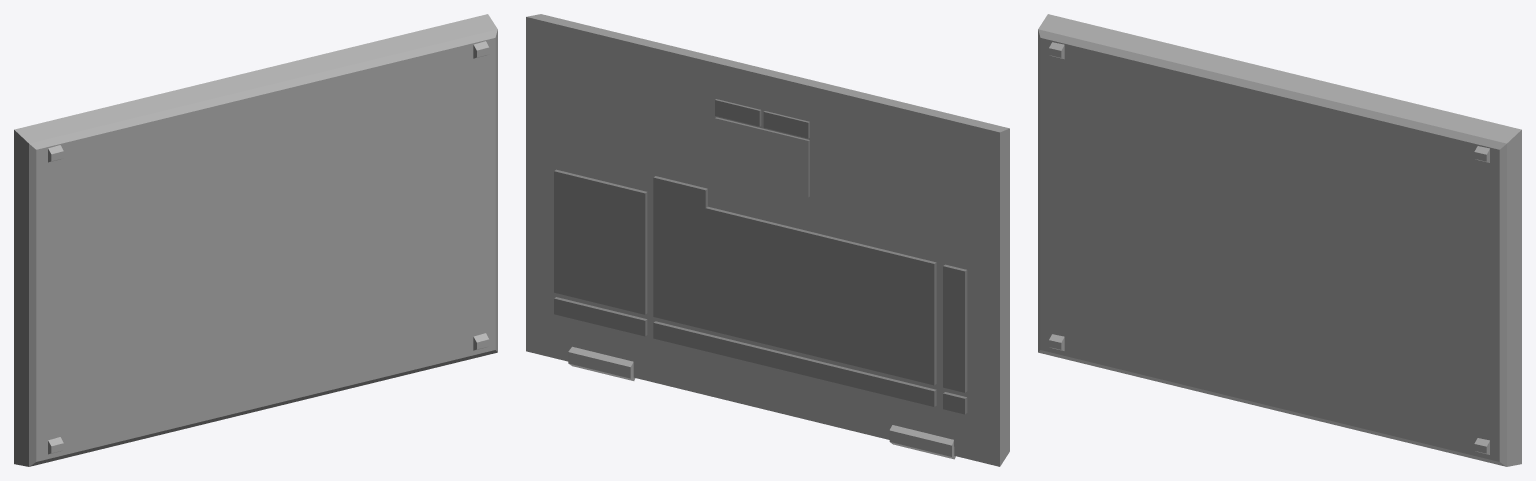
File: Laptop_Base.glb
3 views of the same model, side by side, from view 1: azimuth 30°, elevation 25°; view 2: azimuth 150°, elevation 25°; view 3: azimuth 330°, elevation 25° (orthographic).
Visible parts, largest first — view 1: Laptop Base; view 2: Laptop Base; view 3: Laptop Base.
Boxes of the visible parts, x1,y1,x2,y2 form: Laptop Base: [14, 14, 497, 466]; Laptop Base: [526, 14, 1009, 466]; Laptop Base: [1038, 14, 1521, 466].
Size of the model in its own units: 0.467 by 0.3187 by 0.0361.
Materials: 1 (1 with a texture image).
